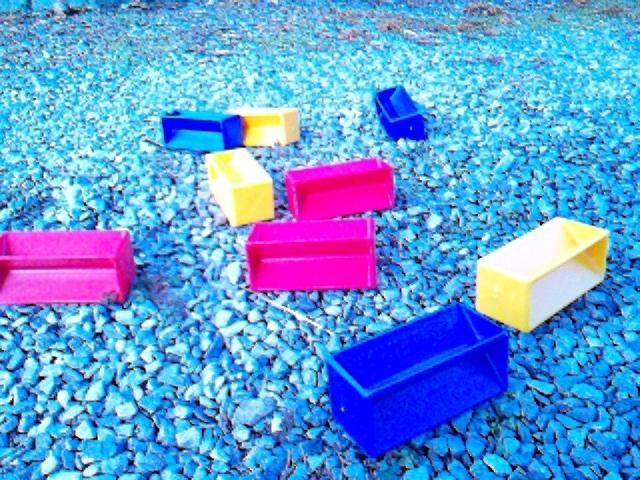blue: (324, 301, 511, 460), (161, 110, 244, 153), (375, 85, 427, 142)
red: (1, 229, 137, 306), (245, 218, 378, 292), (284, 157, 396, 220)
yellow: (476, 216, 610, 333), (205, 148, 275, 227), (226, 107, 301, 148)
